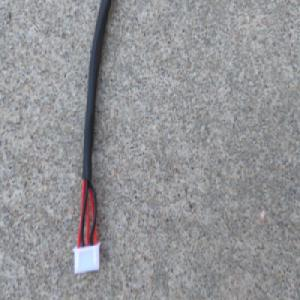Wire: (72, 0, 113, 277)
